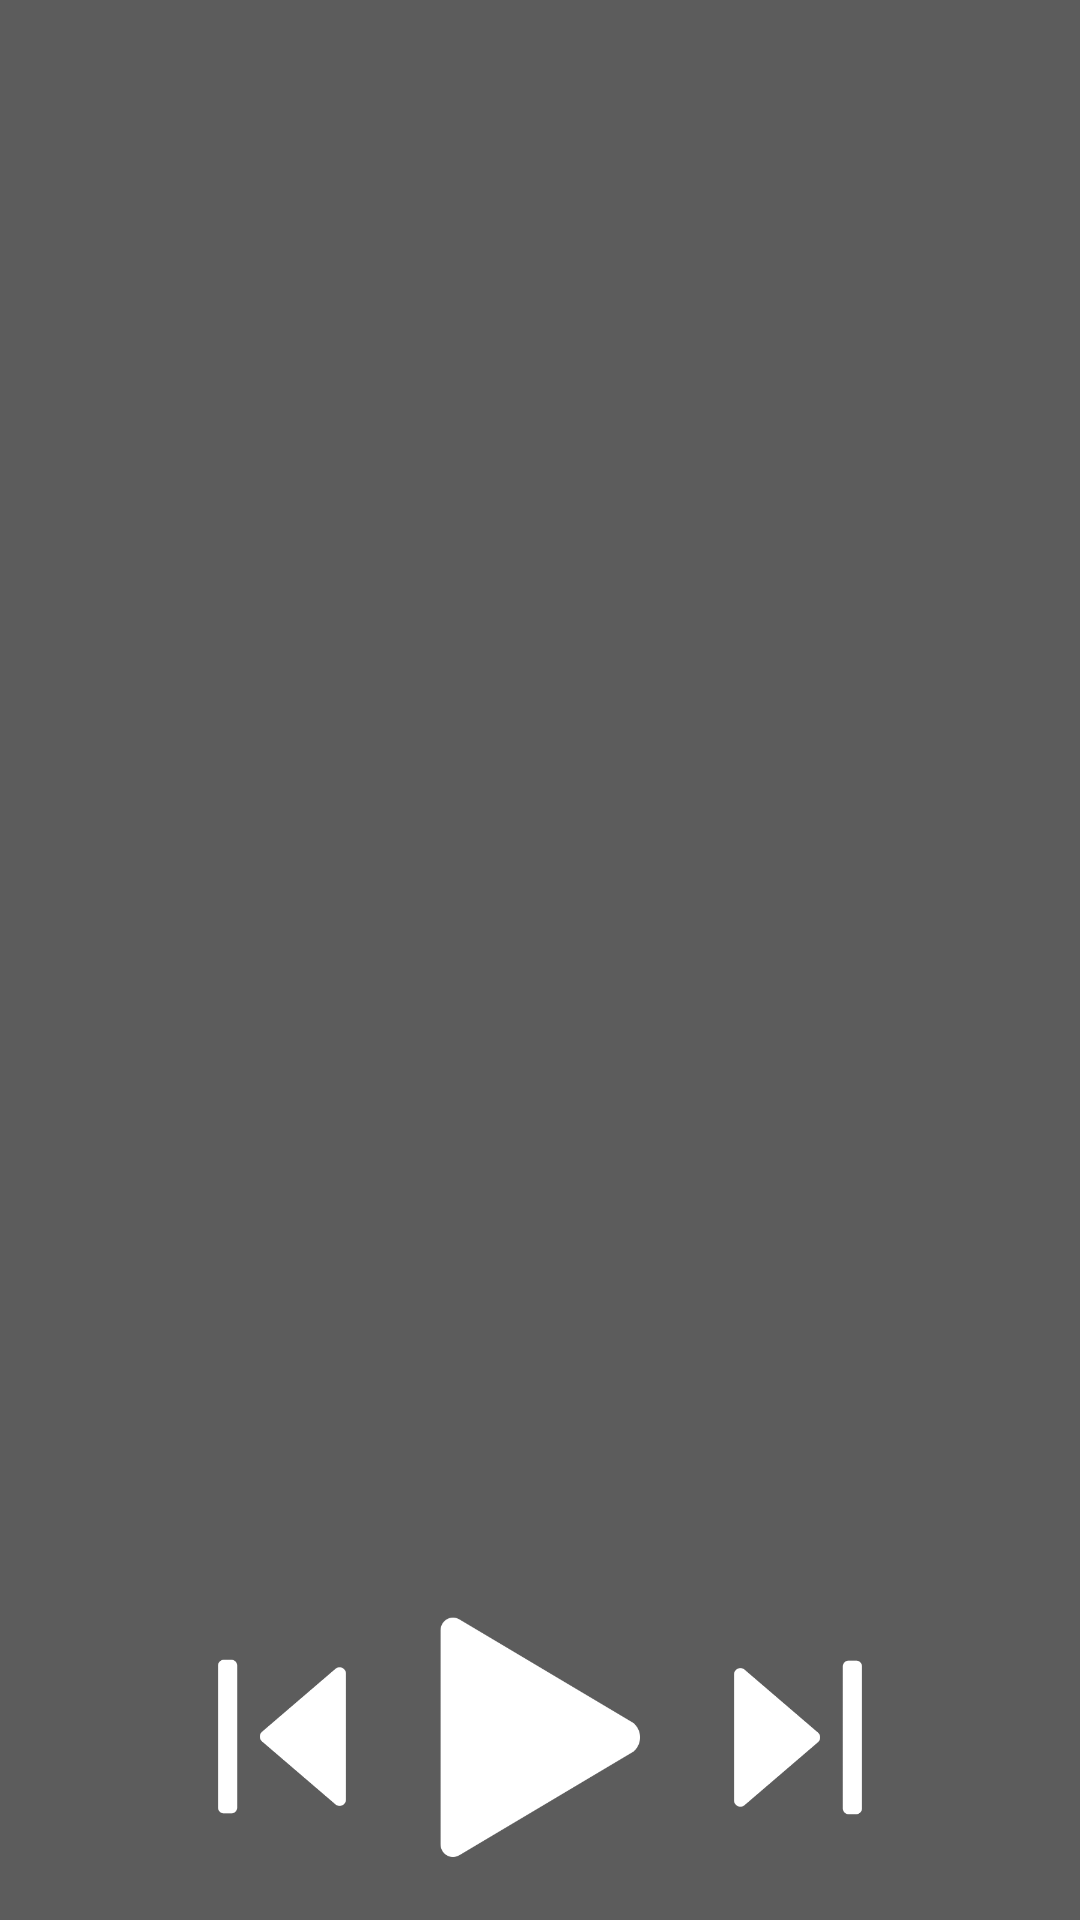

Screen size 1080 x 1920. Icon name, then its box in pixels as (x1, y1, x2, y2):
back: (218, 1659, 346, 1814)
next: (734, 1660, 862, 1815)
play: (440, 1617, 640, 1857)
